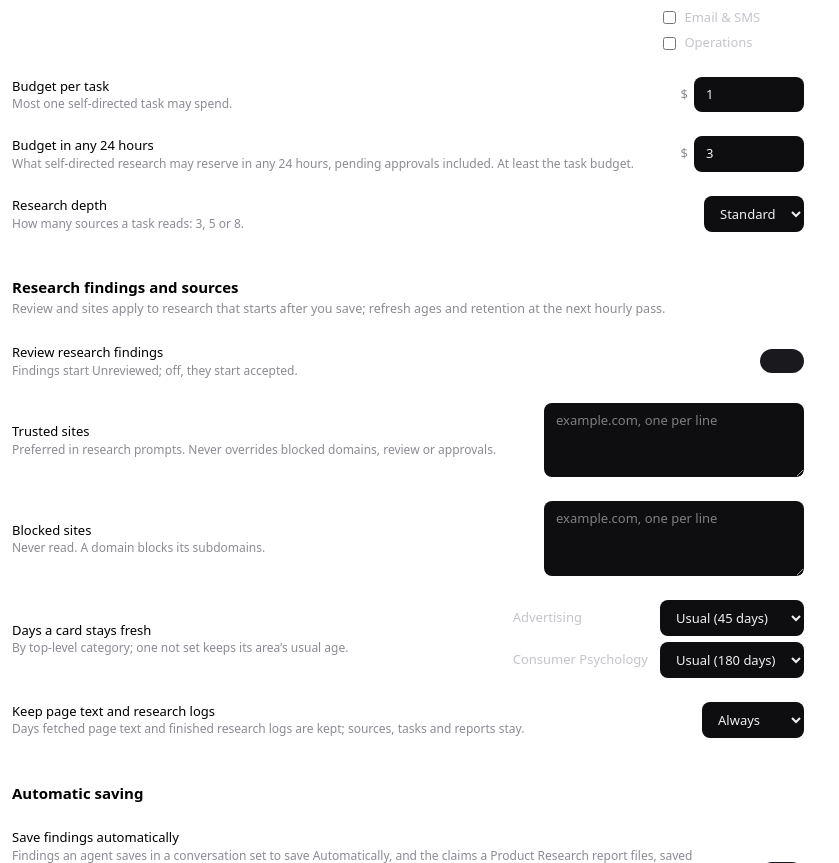
shows why a save was refused, on its row
(page scrolled)
Type "https://reddit.com/r/x" into the text box labelled "Trusted sites" at x=674, y=440, box [544,402,804,477]
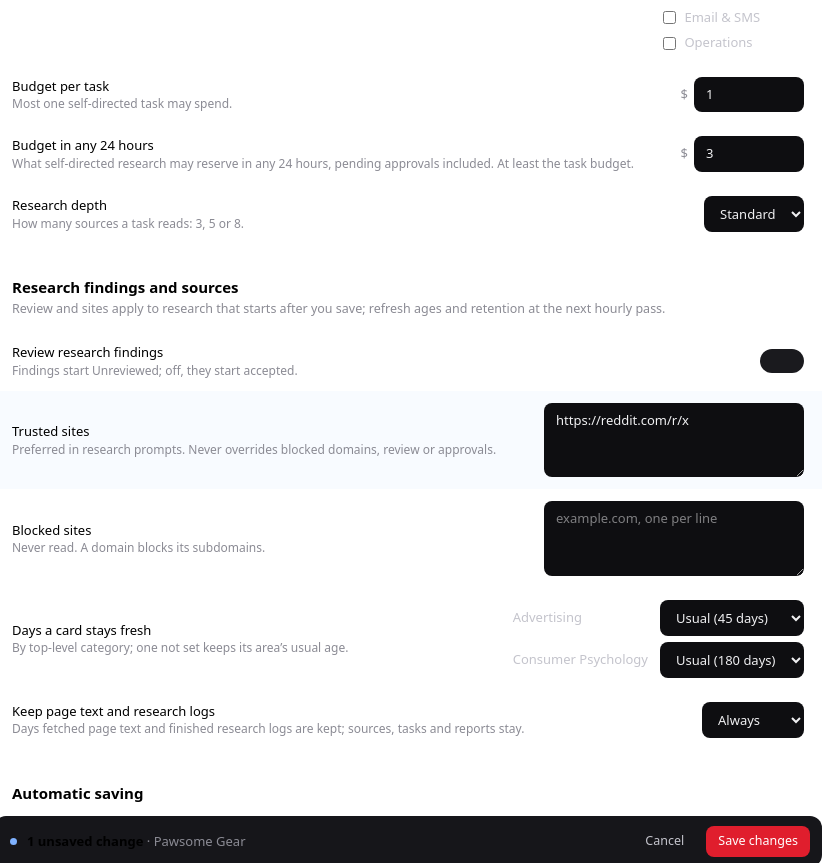
Click the button "Save changes" at x=758, y=842, box [706,826,810,857]
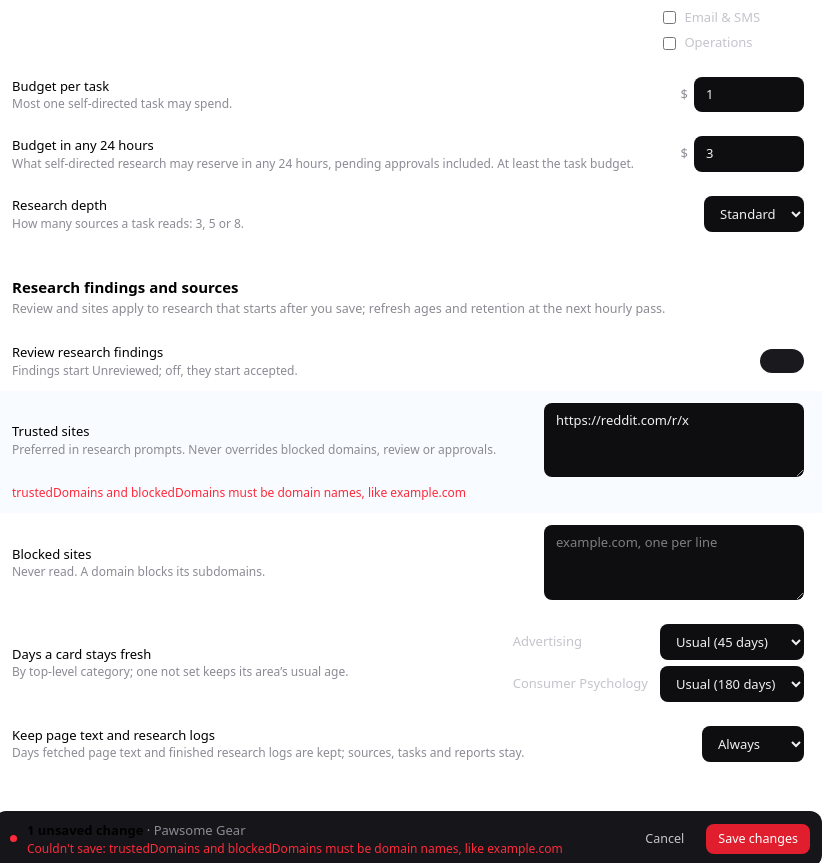
Expected: the text "trustedDomains and blockedDomains must be domain names, like example.com" is shown, [12,484,466,501]
